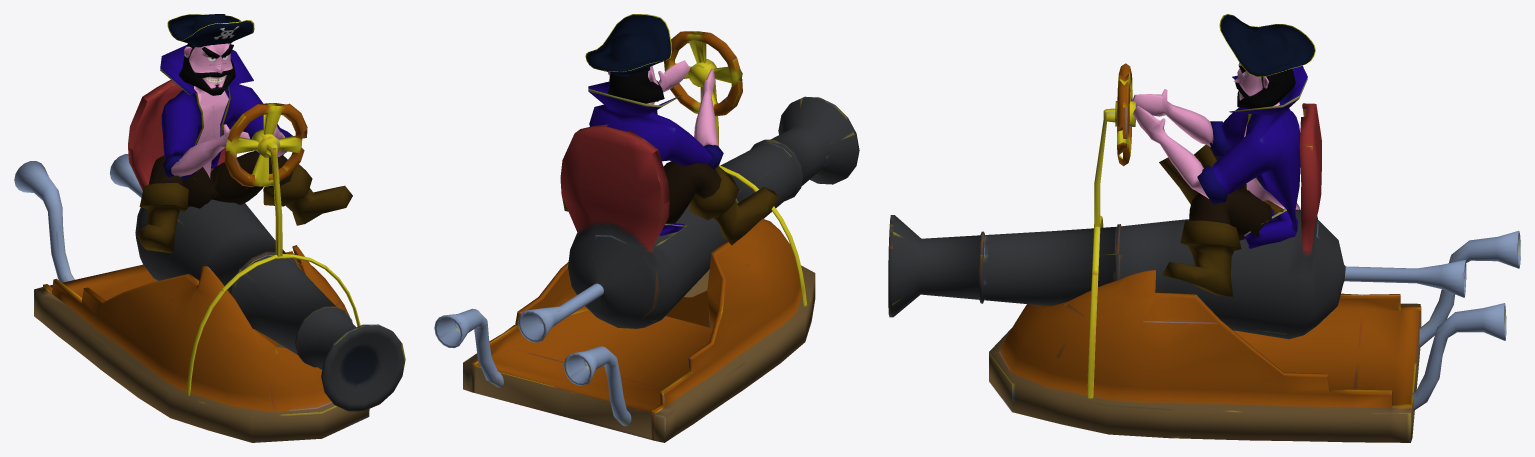
Rendered from VacilePirata_000550.obj.
3 renders of one model, left to right at view 1: azimuth 30°, elevation 25°; view 2: azimuth 150°, elevation 25°; view 3: azimuth 270°, elevation 25°, orthographic. The views are drawn at different scales.
Parts seen in each view (by area): view 1: carro_pirata_carro_pirata.001, Pirata_PirataH; view 2: carro_pirata_carro_pirata.001, Pirata_PirataH; view 3: carro_pirata_carro_pirata.001, Pirata_PirataH.
Boxes of the visible parts, left/top/right/bottom form: carro_pirata_carro_pirata.001: left=14, top=80, right=405, bottom=442; Pirata_PirataH: left=137, top=14, right=352, bottom=253; carro_pirata_carro_pirata.001: left=434, top=31, right=859, bottom=442; Pirata_PirataH: left=562, top=14, right=779, bottom=245; carro_pirata_carro_pirata.001: left=888, top=63, right=1520, bottom=442; Pirata_PirataH: left=1132, top=14, right=1315, bottom=296.
Bounding box in the file's own units: 5.13 × 7.76 × 12.1.
